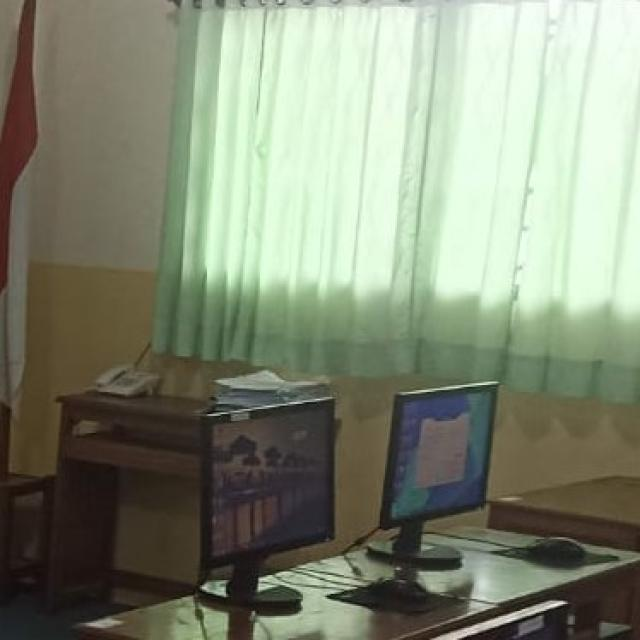onscreen: (204, 397, 334, 566), (381, 383, 496, 526)
